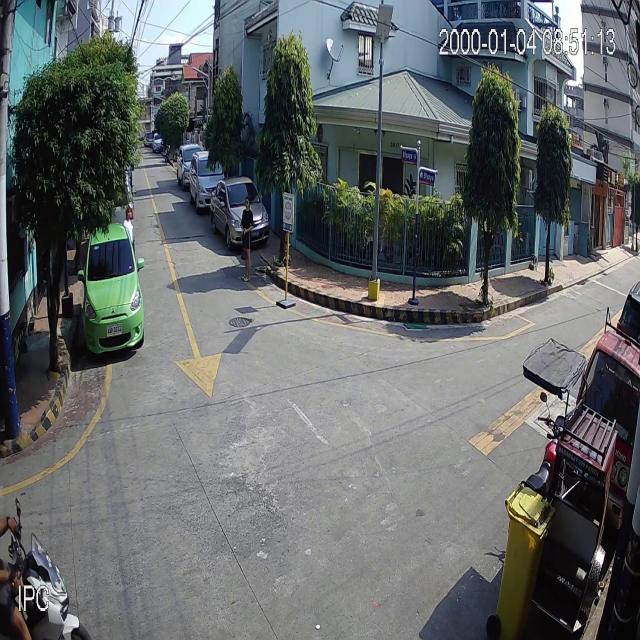standing: (240, 195, 256, 282)
